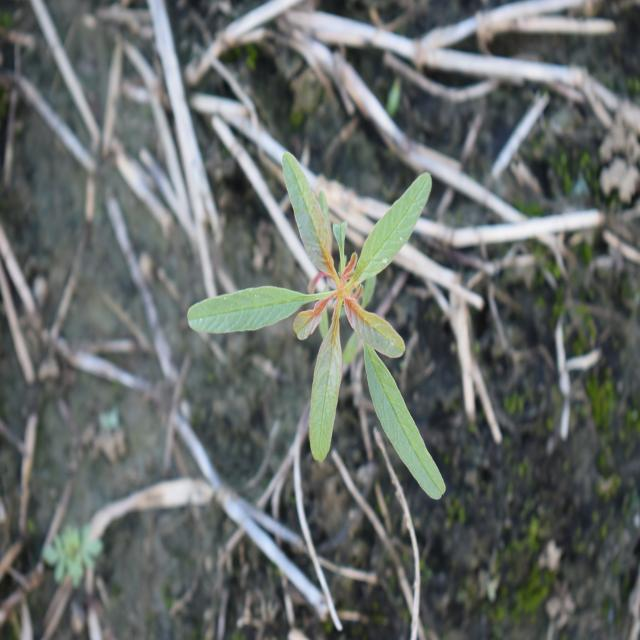Waterhemp: (186, 149, 448, 502)
